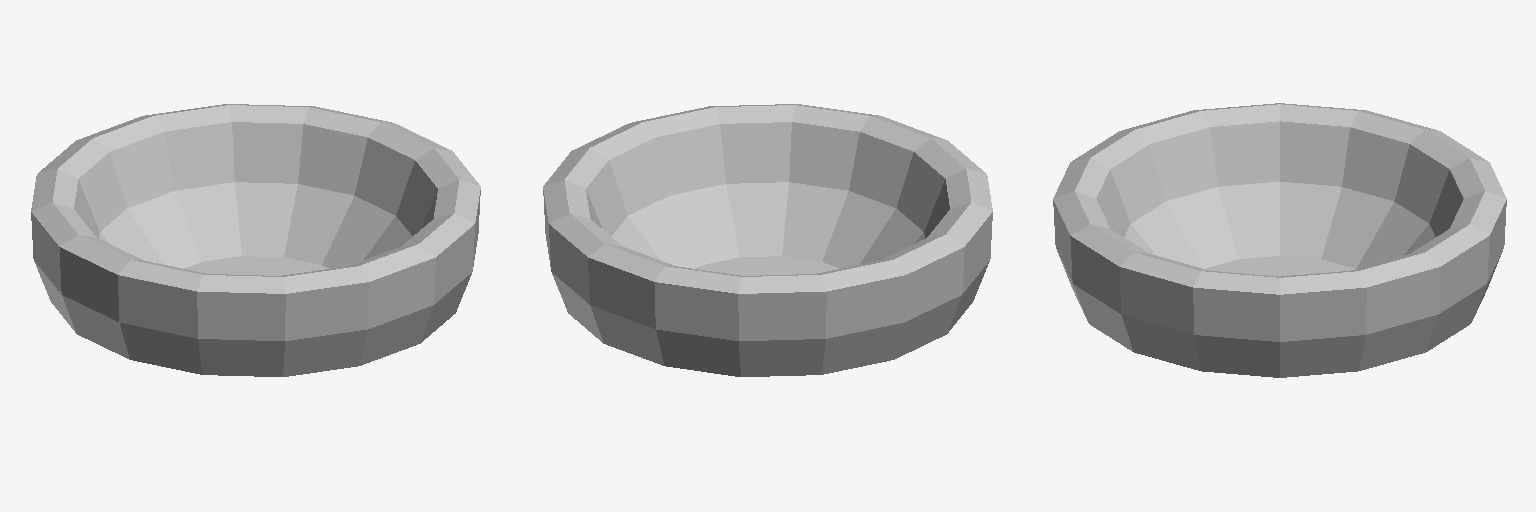
The model's file is bowl.obj.
The picture shows the model from 3 angles: view 1: azimuth 30°, elevation 25°; view 2: azimuth 150°, elevation 25°; view 3: azimuth 270°, elevation 25°; orthographic projection.
Visible parts, largest first — view 1: bowl_Sphere.095; view 2: bowl_Sphere.095; view 3: bowl_Sphere.095.
Boxes of the visible parts, x1,y1,x2,y2 form: bowl_Sphere.095: [31, 104, 480, 376]; bowl_Sphere.095: [543, 104, 992, 376]; bowl_Sphere.095: [1053, 103, 1506, 377].
Bounding box in the file's own units: 0.95 × 0.3 × 0.95.